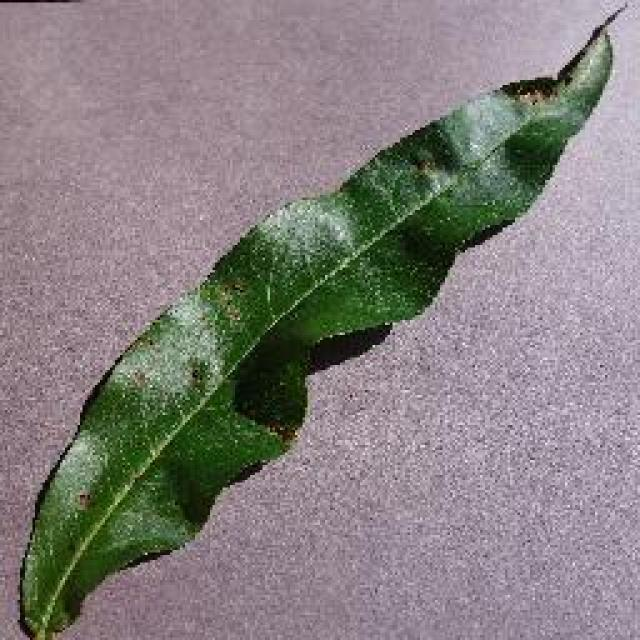Peach_Bacterial_Spot: (423, 48, 592, 167)
